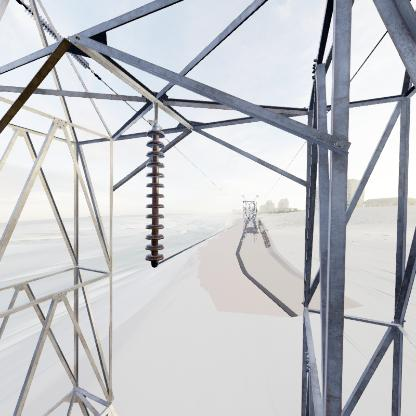insulator: (143, 123, 167, 271)
